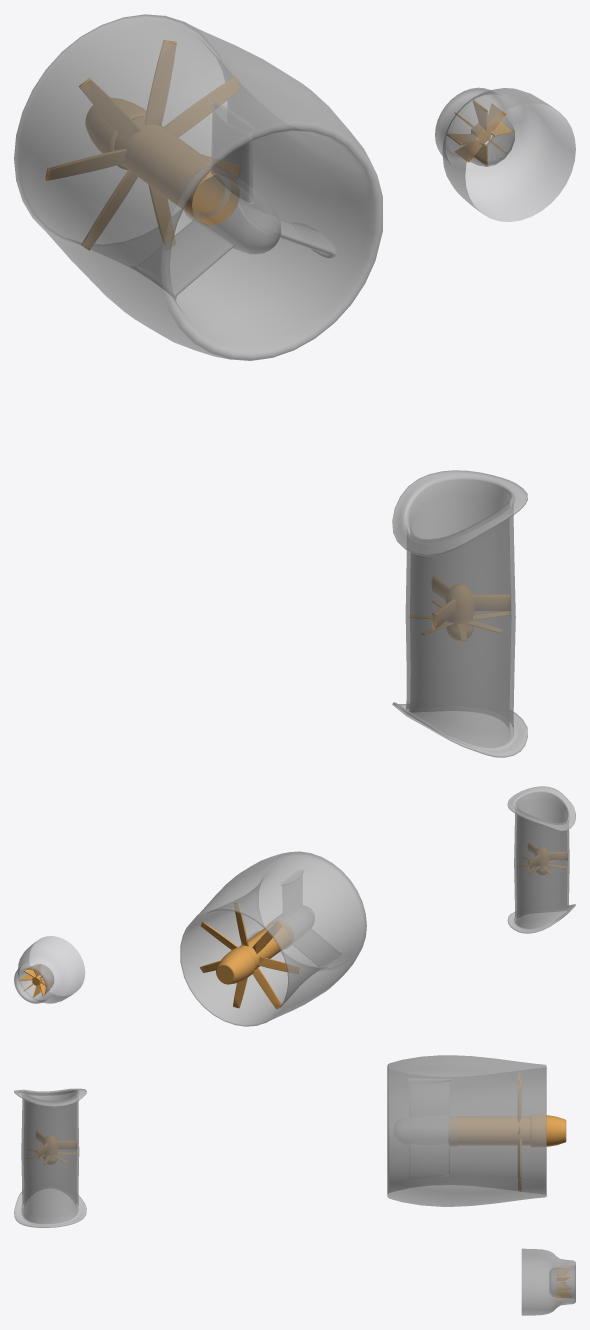
The model's file is GL_thruster_parts_1.fbx.
3 renders of one model, top to bottom at view 1: azimuth 30°, elevation 25°; view 2: azimuth 150°, elevation 25°; view 3: azimuth 270°, elevation 25°, orthographic. The views are drawn at different scales.
Visible parts, largest first — view 1: gl_main_thruster_housing_1, gl_side_thruster_housing_1, gl_jet_thruster_housing_1, gl_main_thruster_motor_1, gl_main_thruster_blades_1, gl_side_thruster_motor_1, gl_jet_thruster_blades_1; view 2: gl_main_thruster_housing_1, gl_side_thruster_housing_1, gl_jet_thruster_housing_1, gl_main_thruster_blades_1, gl_main_thruster_motor_1, gl_side_thruster_motor_1, gl_jet_thruster_blades_1; view 3: gl_main_thruster_housing_1, gl_side_thruster_housing_1, gl_main_thruster_motor_1, gl_jet_thruster_housing_1, gl_side_thruster_motor_1, gl_main_thruster_blades_1, gl_jet_thruster_blades_1.
Part boxes in pixels (box(x1,y1,x2,y2)): gl_main_thruster_housing_1: box(14, 14, 382, 360); gl_side_thruster_housing_1: box(392, 470, 527, 757); gl_jet_thruster_housing_1: box(435, 87, 575, 221); gl_main_thruster_motor_1: box(85, 98, 239, 225); gl_main_thruster_blades_1: box(45, 40, 240, 250); gl_side_thruster_motor_1: box(431, 576, 511, 640); gl_jet_thruster_blades_1: box(447, 100, 513, 165); gl_main_thruster_housing_1: box(180, 851, 366, 1026); gl_side_thruster_housing_1: box(507, 786, 575, 933); gl_jet_thruster_housing_1: box(14, 936, 85, 1003); gl_main_thruster_blades_1: box(200, 903, 299, 1008); gl_main_thruster_motor_1: box(216, 923, 289, 984); gl_side_thruster_motor_1: box(527, 842, 567, 874); gl_jet_thruster_blades_1: box(20, 964, 53, 997); gl_main_thruster_housing_1: box(387, 1055, 546, 1206); gl_side_thruster_housing_1: box(14, 1088, 86, 1227); gl_main_thruster_motor_1: box(457, 1115, 566, 1146); gl_jet_thruster_housing_1: box(521, 1248, 575, 1315); gl_side_thruster_motor_1: box(36, 1131, 77, 1164); gl_main_thruster_blades_1: box(518, 1071, 521, 1190); gl_jet_thruster_blades_1: box(556, 1267, 571, 1297).
Bounding box in the file's own units: 1652 × 912 × 2466.
